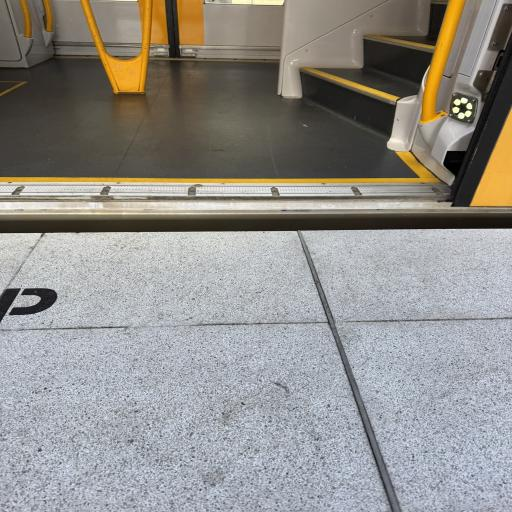gap: (0, 212, 512, 234)
